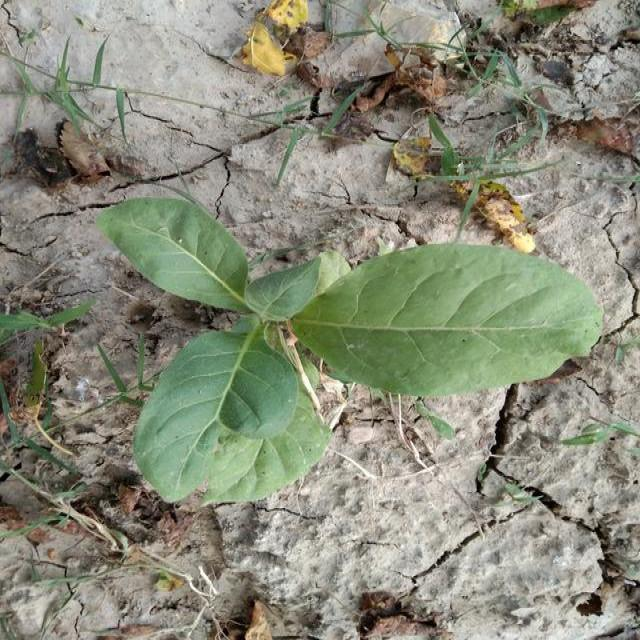crop: (104, 186, 602, 487)
